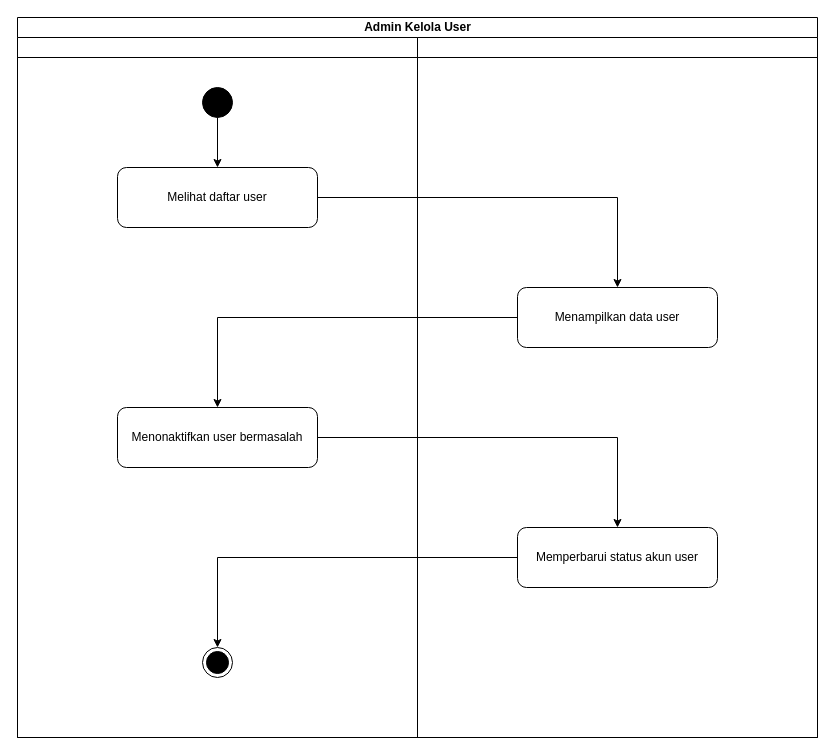
This 835x755 diagram has some shape labels left out. Here are the shapes that lost their labels. From the top down, the box of each, then its label:
(16, 36, 418, 738): Pengguna
(416, 36, 818, 738): Sistem
